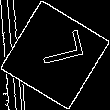L_W: (26, 34, 84, 76)
